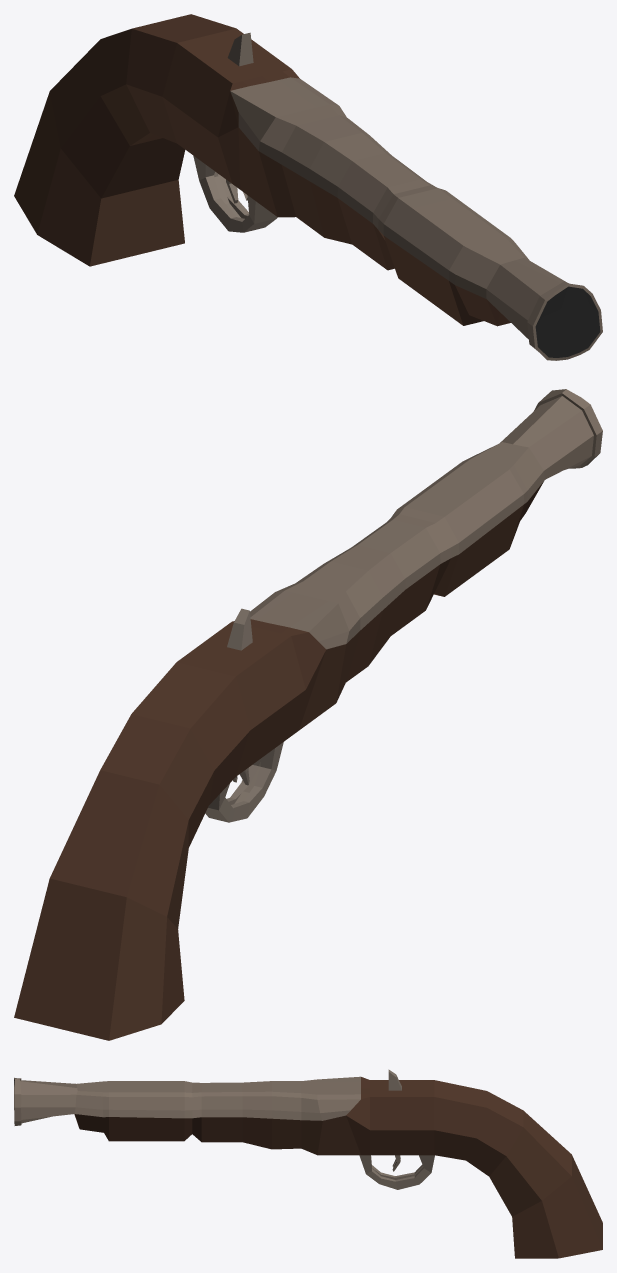
The model's file is gunmodel.fbx.
3 views of the same model, one above another, from view 1: azimuth 30°, elevation 25°; view 2: azimuth 150°, elevation 25°; view 3: azimuth 270°, elevation 25° (orthographic). The views are drawn at different scales.
Parts seen in each view (by area): view 1: Cube.004; view 2: Cube.004; view 3: Cube.004.
Part boxes in pixels (<box>): Cube.004: <box>14,14,602,360</box>; Cube.004: <box>14,389,602,1040</box>; Cube.004: <box>14,1069,602,1258</box>.
Bounding box in the file's own units: 61.98 × 143 × 437.
